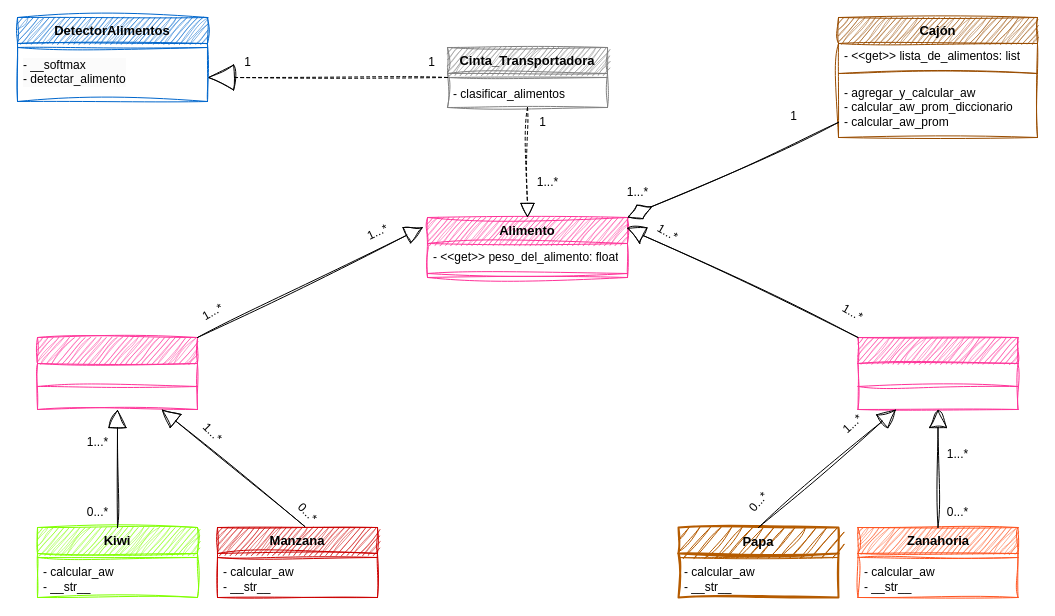
This 1055x616 diagram has some shape labels left out. The shapes that lost their labels are listed below. From the top down, each one's centre as x and y in pixels, then its label:
[117,373]: Fruta
[937,373]: Verdura
